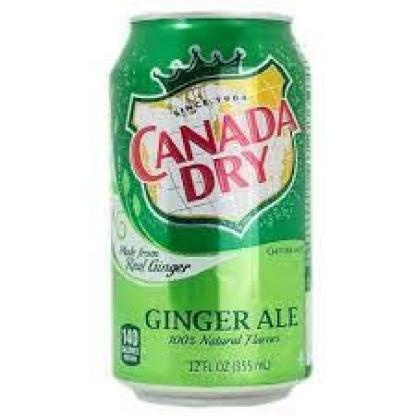trash: (111, 14, 310, 399)
